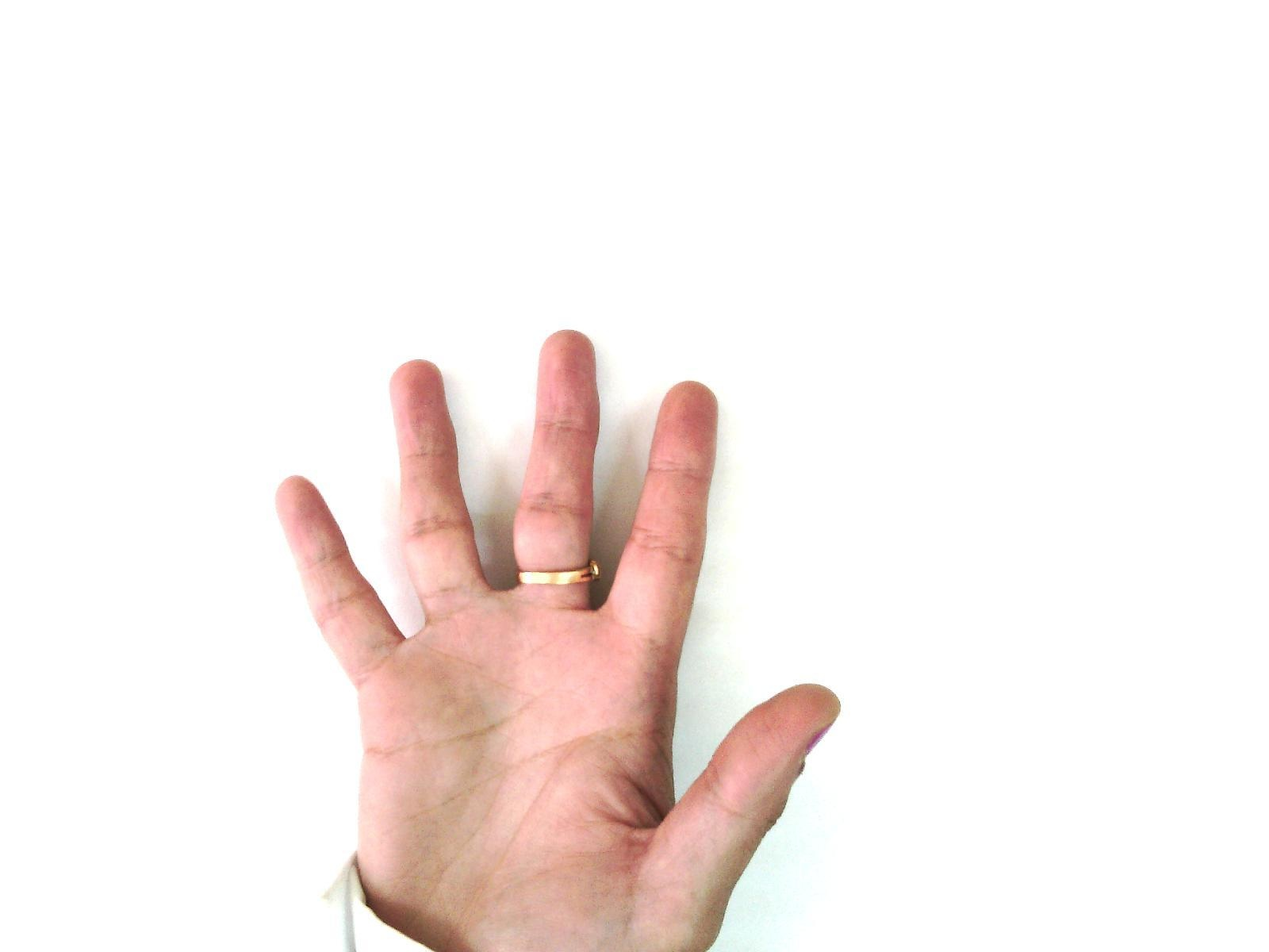open_palm: (273, 328, 843, 951)
